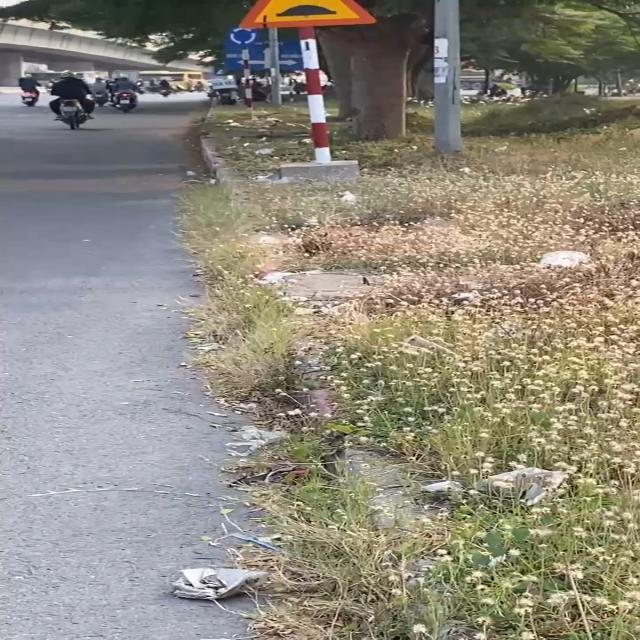221-duong-go-ghe: (236, 0, 378, 28)
303-noi-giao-nhau-chay-theo-vong-xuyen: (226, 26, 258, 46)
